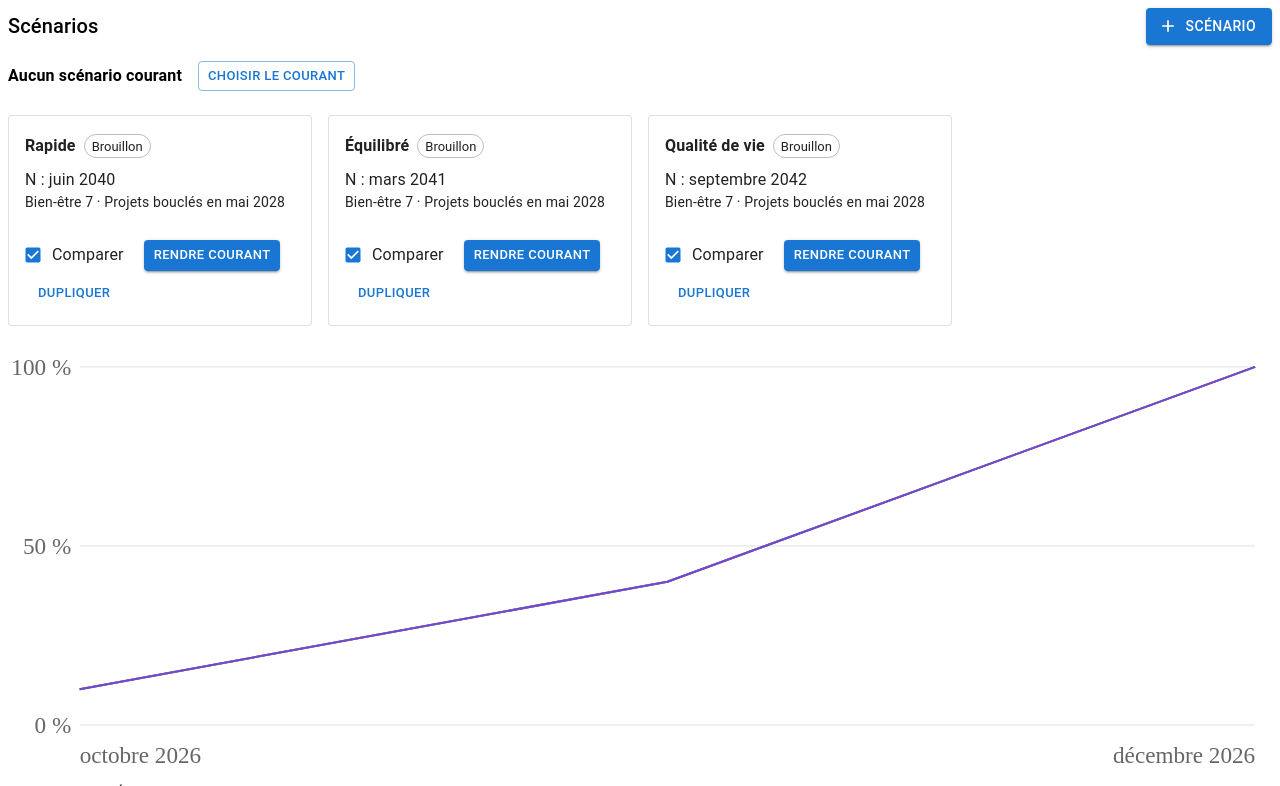
Test case: ScenariosPanel › creates a scenario from every project, in the order of the user, with a monthly saving in cents
Click the button "Scénario": (1209, 26) [1146, 8, 1272, 44]
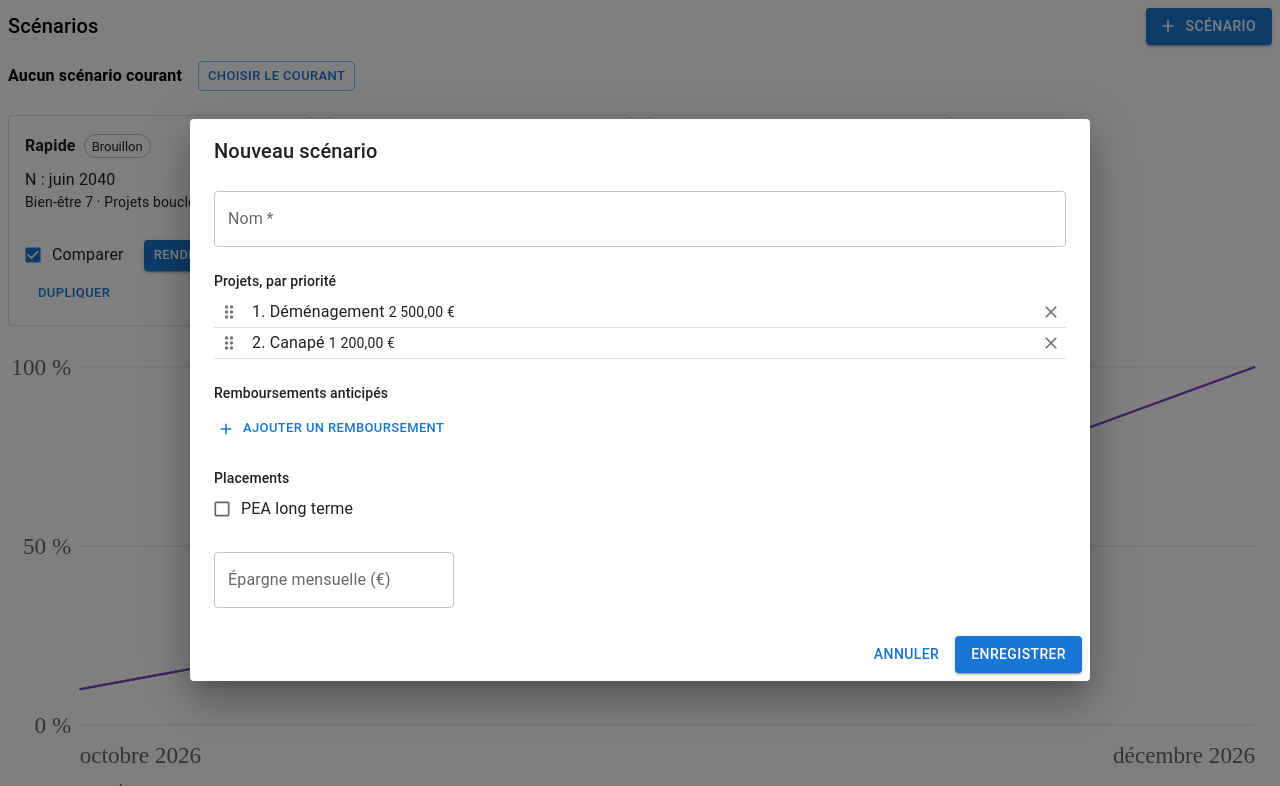
In the field labelled "Nom *": (640, 219) [214, 191, 1066, 247], type "Japon d’abord"
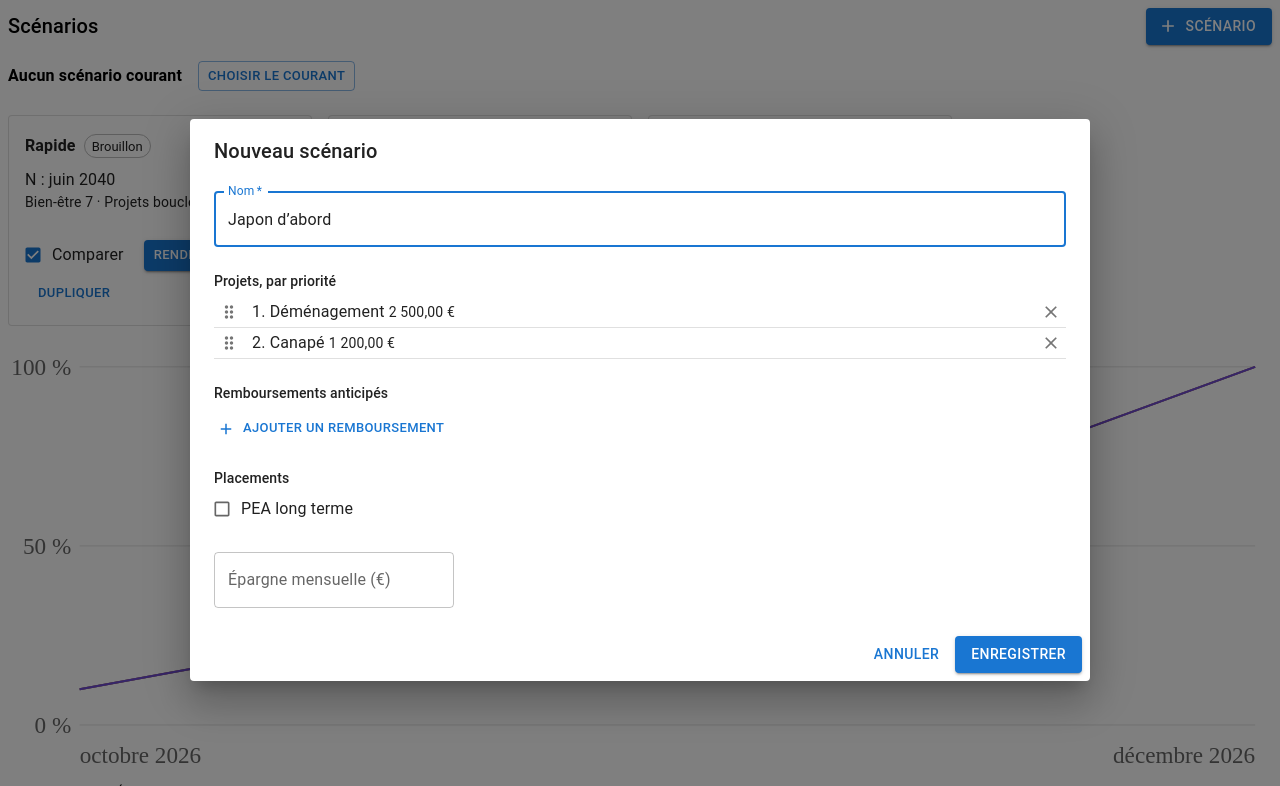
In the field labelled "Épargne mensuelle (€)": (334, 580) [214, 552, 454, 608], type "300,50"
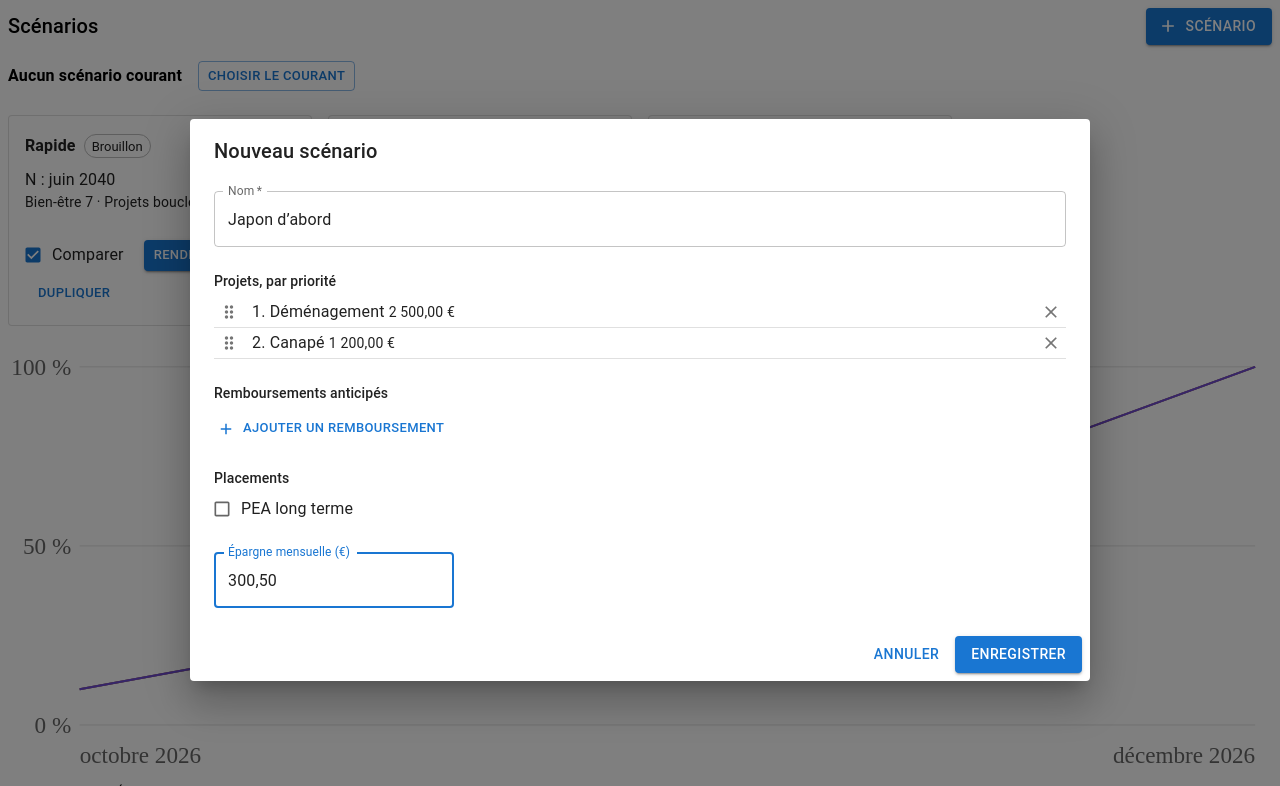
Click the checkbox labelled "PEA long terme": (283, 509) [212, 499, 353, 519]
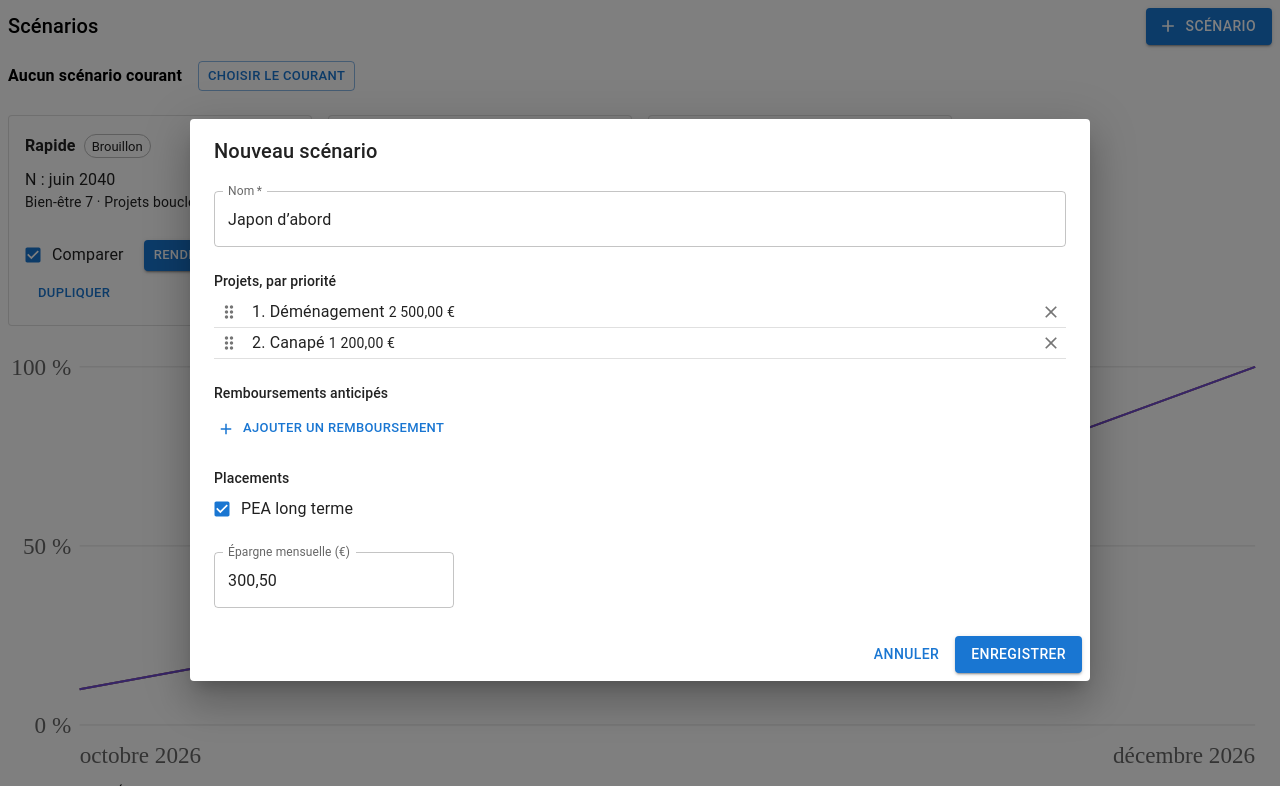
Click the button "Enregistrer": (1019, 654) [955, 636, 1082, 673]
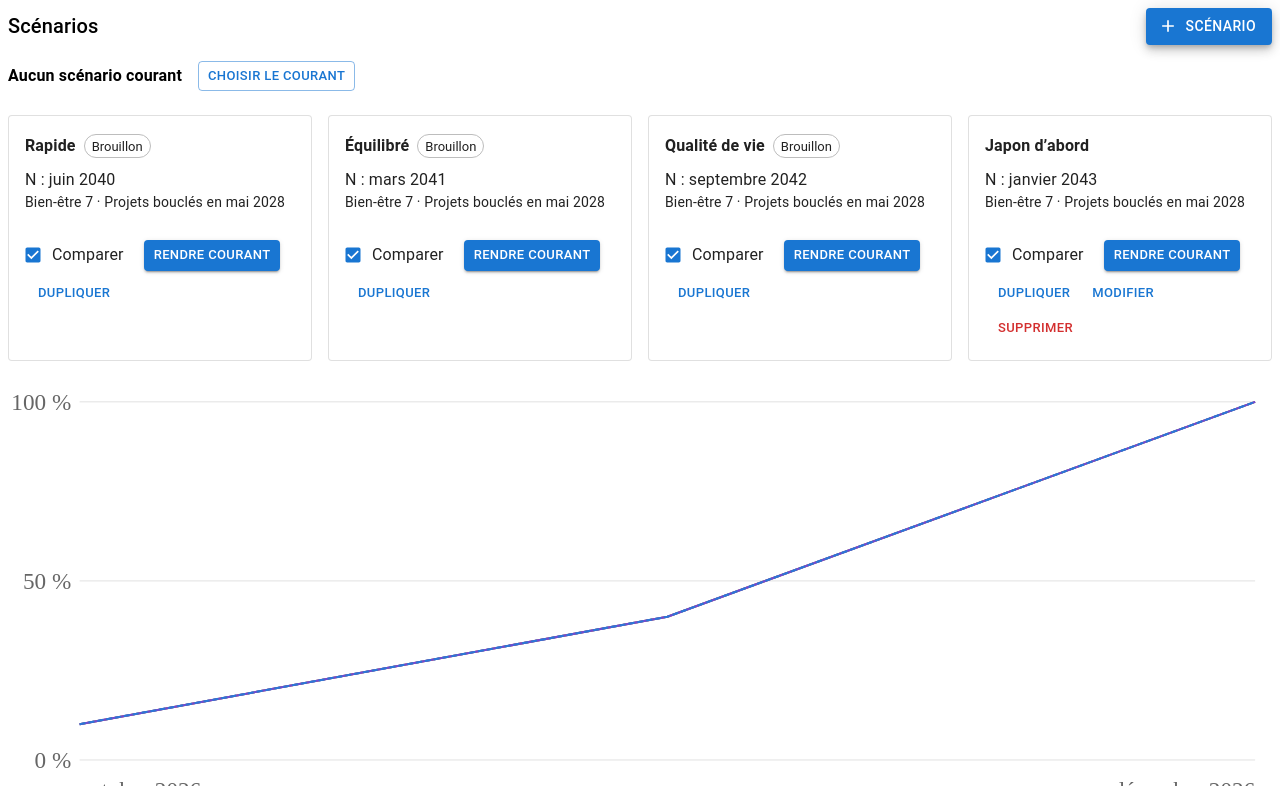
Expected: the heading "Japon d’abord" is shown, [985, 132, 1089, 160]
Expected: the form is gone
